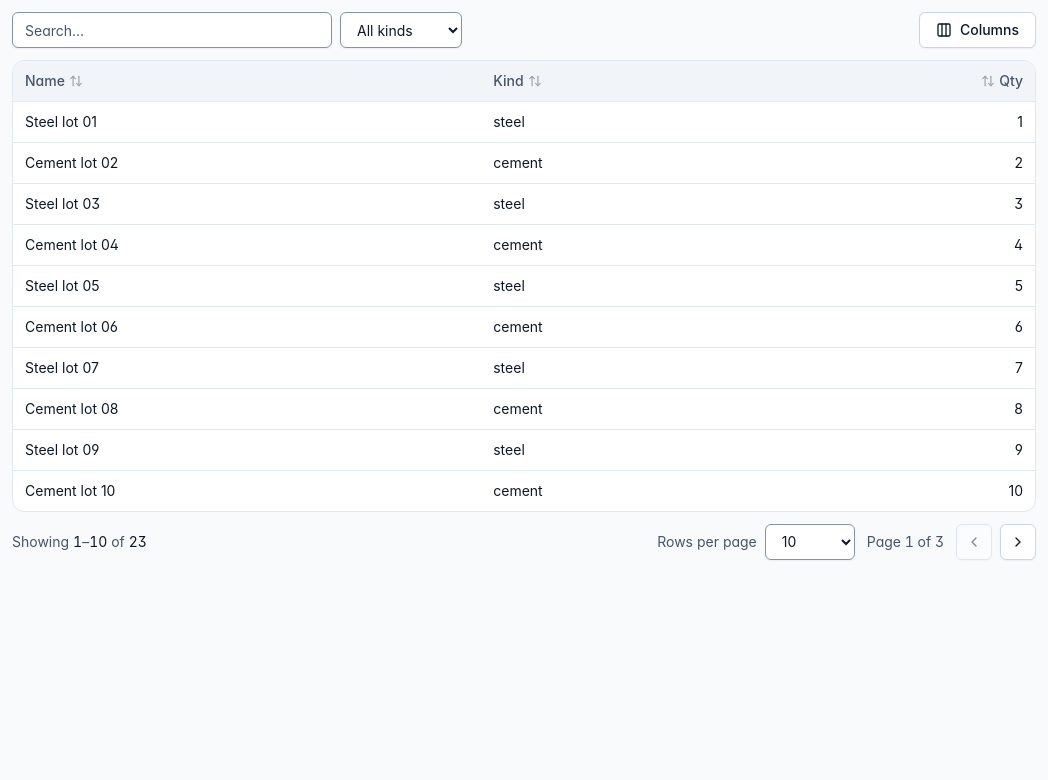
Test: DataTable › paginates 10 rows a page and reports the range
The width and height of the screenshot is (1048, 780).
Expected: the text "Showing 1–10 of 23" is shown, [12,532,147,552]
Expected: the text "Page 1 of 3" is shown, [863,532,948,552]
Click the button named "Next page" at x=1018, y=542, box [1000,524,1036,560]
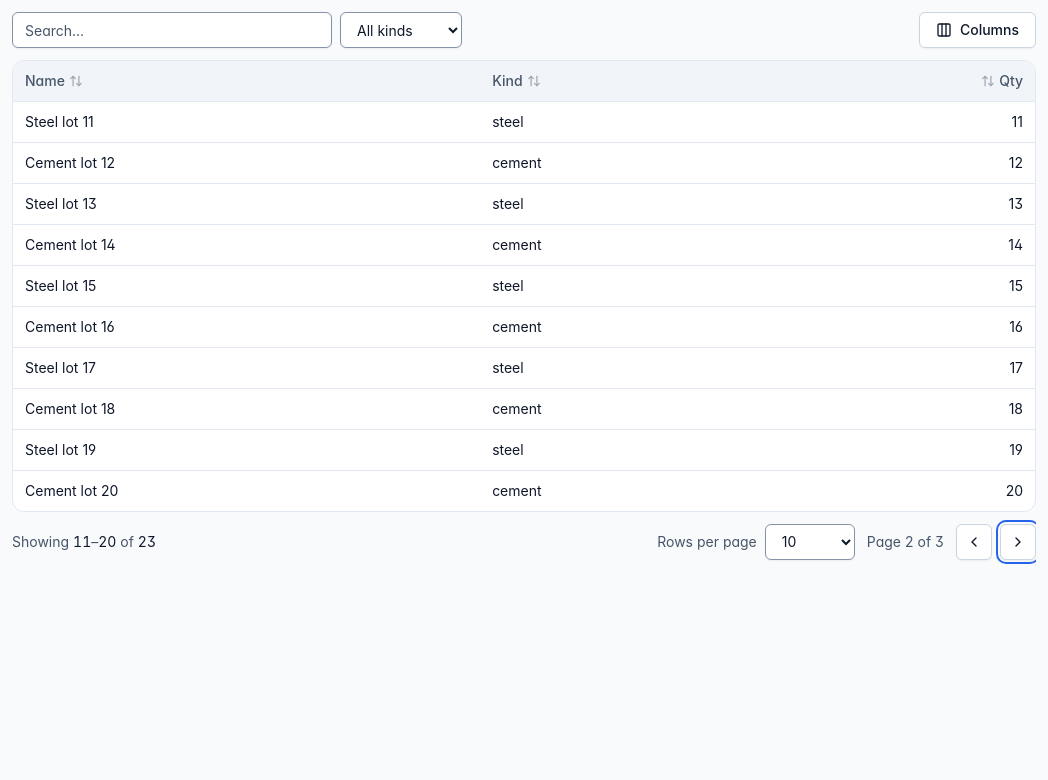
Click the button named "Next page" at x=1018, y=542, box [1000,524,1036,560]
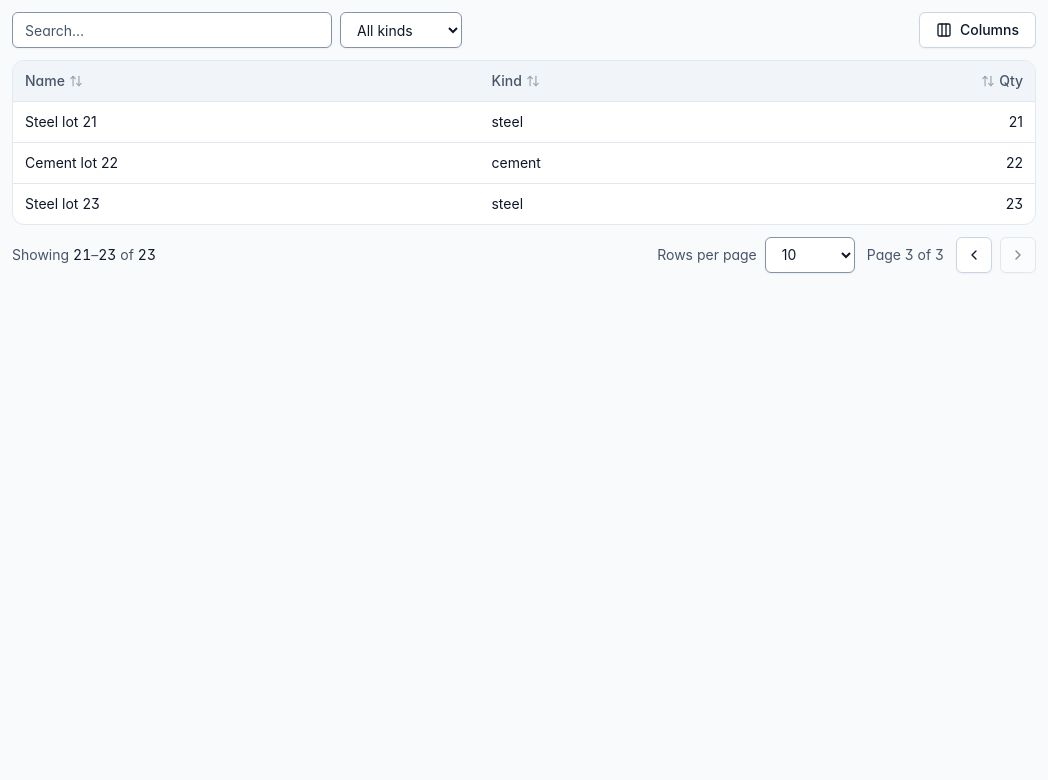
Expected: the text "Showing 21–23 of 23" is shown, [12,244,156,264]
Expected: the button named "Next page" is disabled, [1000,236,1036,272]
